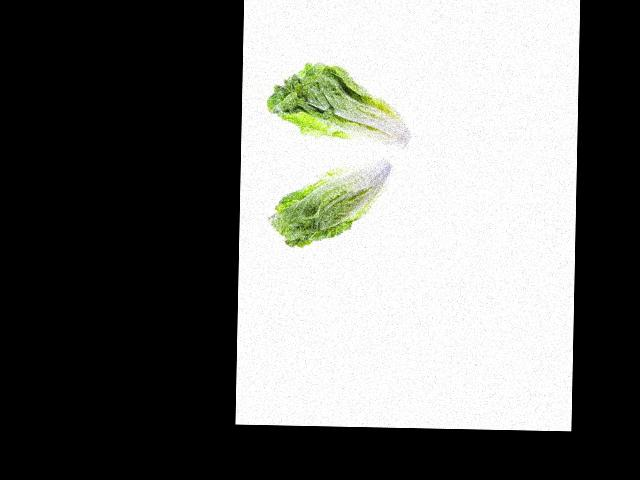lettuce: (284, 41, 380, 150)
